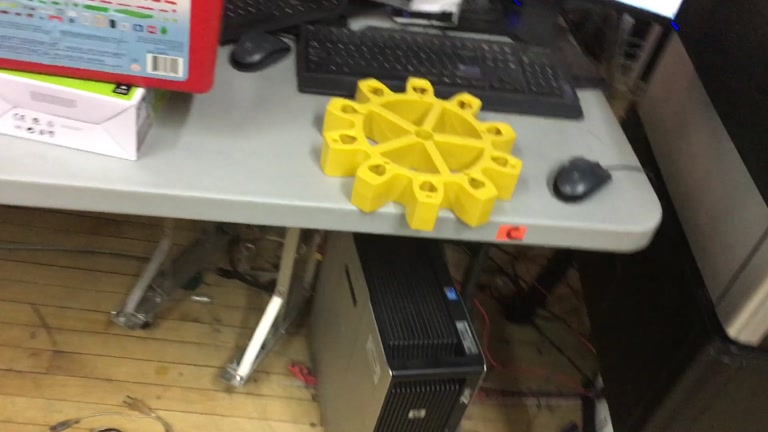gear: (322, 73, 523, 232)
